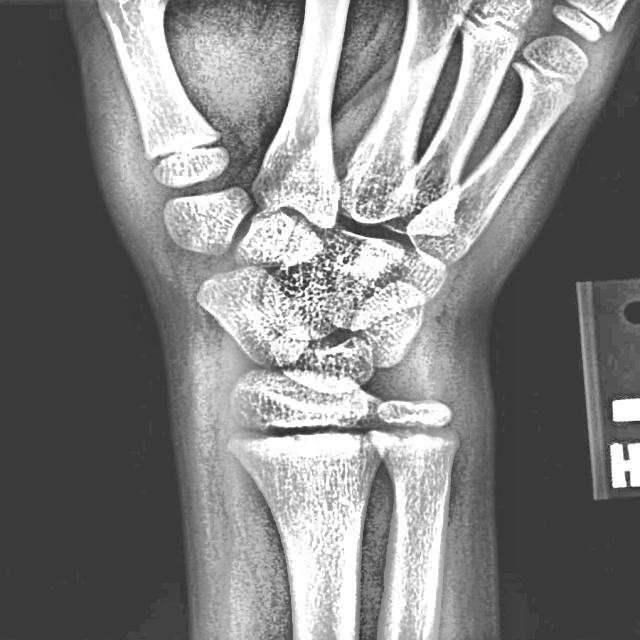fracture: (514, 50, 580, 102)
